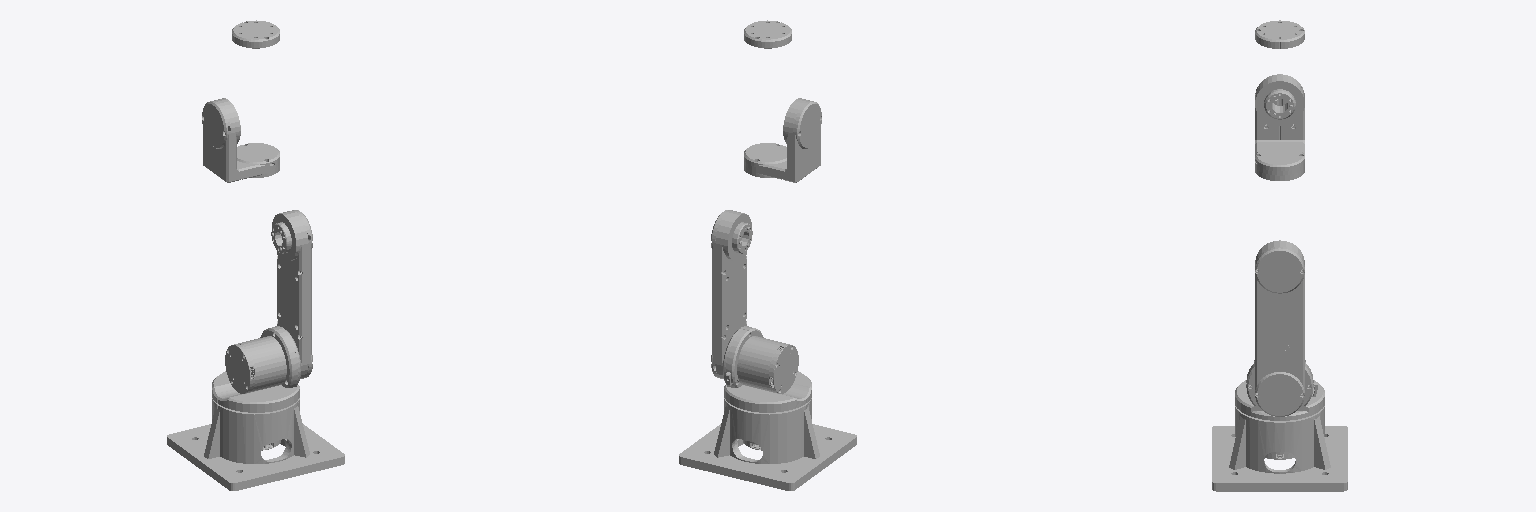
The robot description file, URDF, robot "cyx_arm_001":
<?xml version="1.0" encoding="utf-8"?>
<!-- This URDF was automatically created by SolidWorks to URDF Exporter! Originally created by Stephen Brawner (brawner@gmail.com) 
     Commit Version: 1.6.0-4-g7f85cfe  Build Version: 1.6.7995.38578
     For more information, please see http://wiki.ros.org/sw_urdf_exporter -->
<robot
  name="cyx_arm_001">
  <link
    name="base_link">
    <inertial>
      <origin
        xyz="-0.0012127 4.2244E-07 0.031336"
        rpy="0 0 0" />
      <mass
        value="0.81924" />
      <inertia
        ixx="0.0013934"
        ixy="1.9166E-08"
        ixz="-6.109E-06"
        iyy="0.0014573"
        iyz="5.0986E-10"
        izz="0.001928" />
    </inertial>
    <visual>
      <origin
        xyz="0 0 0"
        rpy="0 0 0" />
      <geometry>
        <mesh
          filename="package://cyx_robot_description/meshes/base_link.STL" />
      </geometry>
      <material
        name="">
        <color
          rgba="0.75294 0.75294 0.75294 1" />
      </material>
    </visual>
    <collision>
      <origin
        xyz="0 0 0"
        rpy="0 0 0" />
      <geometry>
        <mesh
          filename="package://cyx_robot_description/meshes/base_link.STL" />
      </geometry>
    </collision>
  </link>
  <link
    name="arm_link1">
    <inertial>
      <origin
        xyz="0.0073855 2.3388E-05 0.027706"
        rpy="0 0 0" />
      <mass
        value="0.25741" />
      <inertia
        ixx="0.00017568"
        ixy="2.2641E-08"
        ixz="-2.3276E-05"
        iyy="0.00014446"
        iyz="-3.4624E-08"
        izz="0.00017699" />
    </inertial>
    <visual>
      <origin
        xyz="0 0 0"
        rpy="0 0 0" />
      <geometry>
        <mesh
          filename="package://cyx_robot_description/meshes/arm_link1.STL" />
      </geometry>
      <material
        name="">
        <color
          rgba="0.75294 0.75294 0.75294 1" />
      </material>
    </visual>
    <collision>
      <origin
        xyz="0 0 0"
        rpy="0 0 0" />
      <geometry>
        <mesh
          filename="package://cyx_robot_description/meshes/arm_link1.STL" />
      </geometry>
    </collision>
  </link>
  <joint
    name="arm_joint1"
    type="revolute">
    <origin
      xyz="0 0 0.07005"
      rpy="0 0 0" />
    <parent
      link="base_link" />
    <child
      link="arm_link1" />
    <axis
      xyz="0 0 1" />
    <limit
      lower="-3.141592654"
      upper="3.141592654"
      effort="40.0"
      velocity="5.864306287" />
    <dynamics damping="0.1" friction="0.05" />
  </joint>
  <link
    name="arm_link2">
    <inertial>
      <origin
        xyz="0.046790914321042 7.98516368374255E-09 0.0749999911242356"
        rpy="0 0 0" />
      <mass
        value="0.291095551637955" />
      <inertia
        ixx="0.000987640277650789"
        ixy="4.24887348615219E-10"
        ixz="3.49426031973421E-10"
        iyy="0.000934555936839548"
        iyz="-6.07057223975763E-08"
        izz="6.74064421473607E-05" />
    </inertial>
    <visual>
      <origin
        xyz="0 0 0"
        rpy="0 0 0" />
      <geometry>
        <mesh
          filename="package://cyx_robot_description/meshes/arm_link2.STL" />
      </geometry>
      <material
        name="">
        <color
          rgba="0.752941176470588 0.752941176470588 0.752941176470588 1" />
      </material>
    </visual>
    <collision>
      <origin
        xyz="0 0 0"
        rpy="0 0 0" />
      <geometry>
        <mesh
          filename="package://cyx_robot_description/meshes/arm_link2.STL" />
      </geometry>
    </collision>
  </link>
  <joint
    name="arm_joint2"
    type="revolute">
    <origin
      xyz="0 0 0.04"
      rpy="0 0 0" />
    <parent
      link="arm_link1" />
    <child
      link="arm_link2" />
    <axis
      xyz="-1 0 0" />
    <limit
      lower="-1.570796327"
      upper="1.570796327"
      effort="40.0"
      velocity="5.864306287" />
    <dynamics damping="0.1" friction="0.05" />
  </joint>
  <link
    name="arm_link3">
    <inertial>
      <origin
        xyz="0.0108204699841922 -3.62794791258024E-05 0.039349601479323"
        rpy="0 0 0" />
      <mass
        value="0.356129833299829" />
      <inertia
        ixx="0.000333404942287812"
        ixy="3.45836280671357E-08"
        ixz="4.59636252166148E-05"
        iyy="0.000324730301275489"
        iyz="-3.89804958554532E-08"
        izz="0.000173951625952965" />
    </inertial>
    <visual>
      <origin
        xyz="0 0 0"
        rpy="0 0 0" />
      <geometry>
        <mesh
          filename="package://cyx_robot_description/meshes/arm_link3.STL" />
      </geometry>
      <material
        name="">
        <color
          rgba="0.752941176470588 0.752941176470588 0.752941176470588 1" />
      </material>
    </visual>
    <collision>
      <origin
        xyz="0 0 0"
        rpy="0 0 0" />
      <geometry>
        <mesh
          filename="package://cyx_robot_description/meshes/arm_link3.STL" />
      </geometry>
    </collision>
  </link>
  <joint
    name="arm_joint3"
    type="revolute">
    <origin
      xyz="0 0 0.15"
      rpy="0 0 0" />
    <parent
      link="arm_link2" />
    <child
      link="arm_link3" />
    <axis
      xyz="-1 0 0" />
    <limit
      lower="-2.513274123"
      upper="2.513274123"
      effort="40.0"
      velocity="5.864306287" />
    <dynamics damping="0.1" friction="0.05" />
  </joint>
  <link
    name="arm_link4">
    <inertial>
      <origin
        xyz="-0.0282295028270834 7.21023449968123E-05 0.0365015980539524"
        rpy="0 0 0" />
      <mass
        value="0.193970084743678" />
      <inertia
        ixx="0.000149412543336046"
        ixy="-4.01283230946995E-08"
        ixz="5.0155364745969E-05"
        iyy="0.000183688113521878"
        iyz="-9.89380915862307E-09"
        izz="0.000108326501257761" />
    </inertial>
    <visual>
      <origin
        xyz="0 0 0"
        rpy="0 0 0" />
      <geometry>
        <mesh
          filename="package://cyx_robot_description/meshes/arm_link4.STL" />
      </geometry>
      <material
        name="">
        <color
          rgba="0.752941176470588 0.752941176470588 0.752941176470588 1" />
      </material>
    </visual>
    <collision>
      <origin
        xyz="0 0 0"
        rpy="0 0 0" />
      <geometry>
        <mesh
          filename="package://cyx_robot_description/meshes/arm_link4.STL" />
      </geometry>
    </collision>
  </link>
  <joint
    name="arm_joint4"
    type="revolute">
    <origin
      xyz="0 0 0.09"
      rpy="0 0 0" />
    <parent
      link="arm_link3" />
    <child
      link="arm_link4" />
    <axis
      xyz="0 0 -1" />
    <limit
      lower="-3.141592654"
      upper="3.141592654"
      effort="7.0"
      velocity="20.943951024" />
    <dynamics damping="0.05" friction="0.02" />
  </joint>
  <link
    name="arm_link5">
    <inertial>
      <origin
        xyz="-0.0116945792569092 -2.45176941462066E-05 0.0406676882025497"
        rpy="0 0 0" />
      <mass
        value="0.344030121532498" />
      <inertia
        ixx="0.000328215723880632"
        ixy="2.28838746764749E-08"
        ixz="-4.59988329330128E-05"
        iyy="0.000314177608402431"
        iyz="4.22204225140281E-08"
        izz="0.00016358226859689" />
    </inertial>
    <visual>
      <origin
        xyz="0 0 0"
        rpy="0 0 0" />
      <geometry>
        <mesh
          filename="package://cyx_robot_description/meshes/arm_link5.STL" />
      </geometry>
      <material
        name="">
        <color
          rgba="0.752941176470588 0.752941176470588 0.752941176470588 1" />
      </material>
    </visual>
    <collision>
      <origin
        xyz="0 0 0"
        rpy="0 0 0" />
      <geometry>
        <mesh
          filename="package://cyx_robot_description/meshes/arm_link5.STL" />
      </geometry>
    </collision>
  </link>
  <joint
    name="arm_joint5"
    type="revolute">
    <origin
      xyz="0 0 0.07"
      rpy="0 0 0" />
    <parent
      link="arm_link4" />
    <child
      link="arm_link5" />
    <axis
      xyz="1 0 0" />
    <limit
      lower="-1.570796327"
      upper="1.570796327"
      effort="7.0"
      velocity="20.943951024" />
    <dynamics damping="0.05" friction="0.02" />
  </joint>
  <link
    name="arm_link6">
    <inertial>
      <origin
        xyz="-2.97659845036848E-06 -1.71681430476429E-16 0.00845162295206964"
        rpy="0 0 0" />
      <mass
        value="0.0419837846347987" />
      <inertia
        ixx="7.16703794876015E-06"
        ixy="1.70357628324607E-13"
        ixz="-2.84116544954019E-10"
        iyy="7.18861511610312E-06"
        iyz="1.06356762243748E-21"
        izz="1.36654032792126E-05" />
    </inertial>
    <visual>
      <origin
        xyz="0 0 0"
        rpy="0 0 0" />
      <geometry>
        <mesh
          filename="package://cyx_robot_description/meshes/arm_link6.STL" />
      </geometry>
      <material
        name="">
        <color
          rgba="0.752941176470588 0.752941176470588 0.752941176470588 1" />
      </material>
    </visual>
    <collision>
      <origin
        xyz="0 0 0"
        rpy="0 0 0" />
      <geometry>
        <mesh
          filename="package://cyx_robot_description/meshes/arm_link6.STL" />
      </geometry>
    </collision>
  </link>
  <joint
    name="arm_joint6"
    type="revolute">
    <origin
      xyz="0 0 0.09"
      rpy="0 0 0" />
    <parent
      link="arm_link5" />
    <child
      link="arm_link6" />
    <axis
      xyz="0 0 -1" />
    <limit
      lower="-3.141592654"
      upper="3.141592654"
      effort="7.0"
      velocity="20.943951024" />
    <dynamics damping="0.05" friction="0.02" />
  </joint>
  <link name="tool0" />
  <joint name="arm_link6_to_tool0" type="fixed">
    <parent link="arm_link6" />
    <child link="tool0" />
    <origin xyz="0 0 0.016" rpy="0 0 0" />
  </joint>
</robot>

--- What the picture shows (computed from the rendered views, not written in the file) ---
Views: 3 orthographic renders of the robot side by side, from view 1: azimuth 30°, elevation 25°; view 2: azimuth 150°, elevation 25°; view 3: azimuth 270°, elevation 25°.
Model cyx_arm_001 with 8 links and 7 joints (6 revolute, 1 fixed), rooted at base_link, posed all joints at 0.
Visible links, largest first — view 1: base_link, arm_link1, arm_link2, arm_link4, arm_link6; view 2: base_link, arm_link1, arm_link2, arm_link4, arm_link6; view 3: base_link, arm_link2, arm_link4, arm_link1, arm_link6.
Link boxes in pixels (left/top/right/bottom): base_link: left=167, top=398, right=344, bottom=490; arm_link1: left=212, top=326, right=300, bottom=412; arm_link2: left=271, top=210, right=312, bottom=378; arm_link4: left=202, top=98, right=279, bottom=182; arm_link6: left=232, top=20, right=279, bottom=48; base_link: left=679, top=398, right=856, bottom=490; arm_link1: left=723, top=326, right=811, bottom=412; arm_link2: left=711, top=210, right=752, bottom=378; arm_link4: left=744, top=98, right=821, bottom=182; arm_link6: left=744, top=20, right=791, bottom=48; base_link: left=1212, top=406, right=1347, bottom=491; arm_link2: left=1255, top=240, right=1304, bottom=416; arm_link4: left=1255, top=74, right=1304, bottom=180; arm_link1: left=1235, top=360, right=1324, bottom=420; arm_link6: left=1255, top=20, right=1304, bottom=48.
Size in the robot's own frame: 0.15 by 0.15 by 0.526 metres.
5 mesh visuals loaded from 7 distinct referenced files (5 binary STL); not drawn: 2 (reference not matched to a file when rendering).
